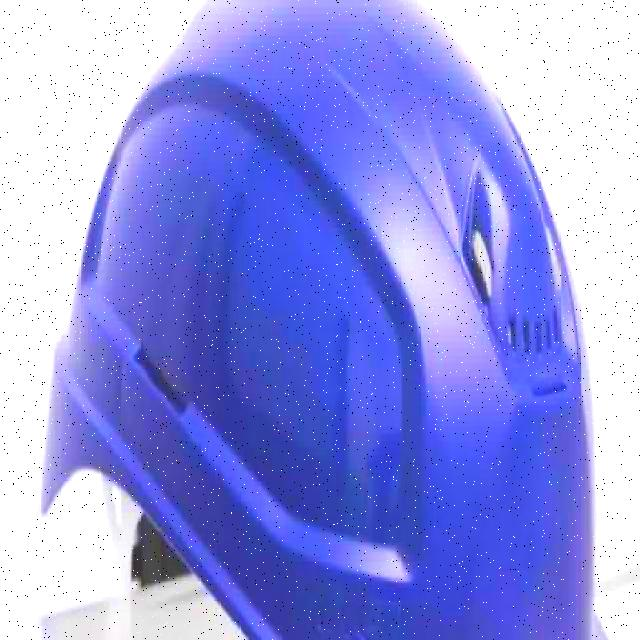Helmet: (36, 0, 612, 638)
